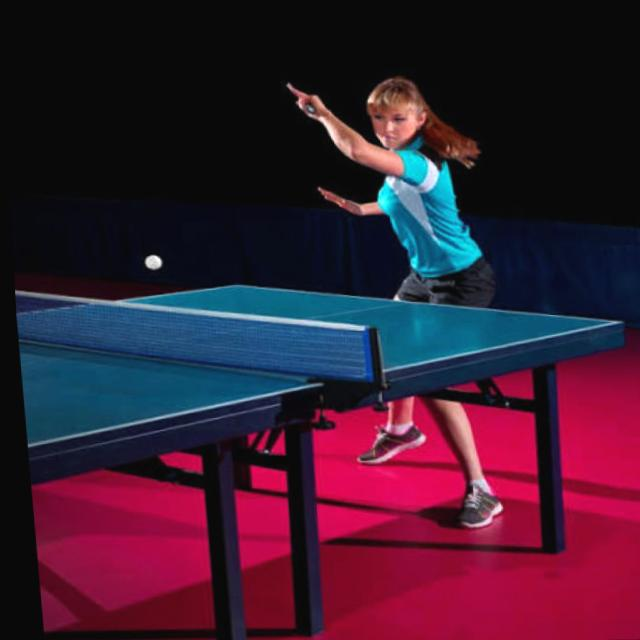TT Net: (15, 284, 379, 395)
TT Table: (17, 284, 625, 446)
